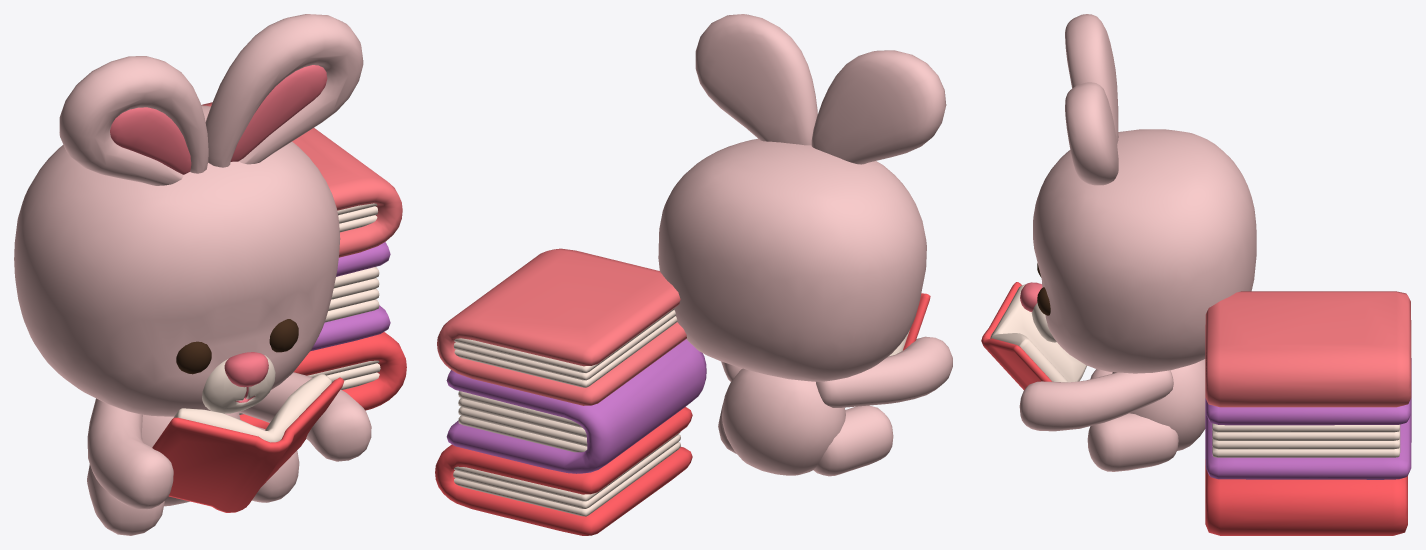
The model's file is capter4_reading.glb.
3 renders of one model, left to right at view 1: azimuth 30°, elevation 25°; view 2: azimuth 150°, elevation 25°; view 3: azimuth 270°, elevation 25°, orthographic. The views are drawn at different scales.
Visible parts, largest first — view 1: 0001_primitive0; view 2: 0001_primitive0; view 3: 0001_primitive0.
Boxes of the visible parts, x1=… form: 0001_primitive0: x1=14, y1=14, x2=406, y2=535; 0001_primitive0: x1=435, y1=14, x2=952, y2=535; 0001_primitive0: x1=981, y1=14, x2=1411, y2=535.
Size of the model in its own units: 2.65 by 2.94 by 2.94.
Materials: 1 (1 with a texture image).
